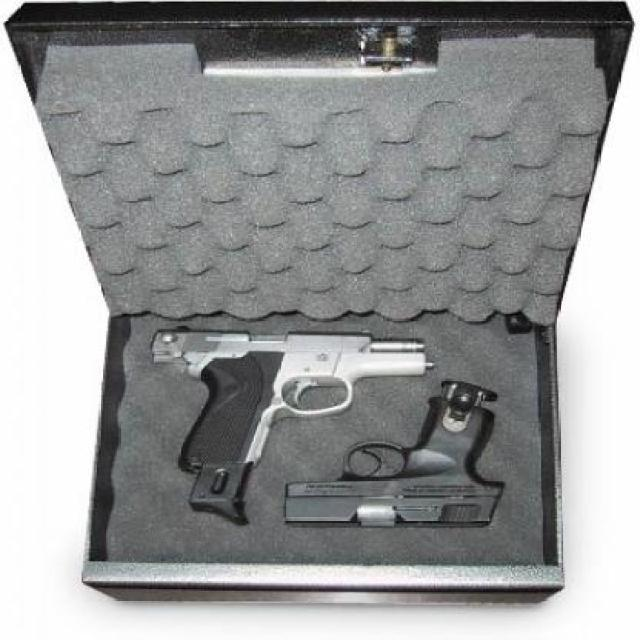gun: (155, 289, 517, 589)
